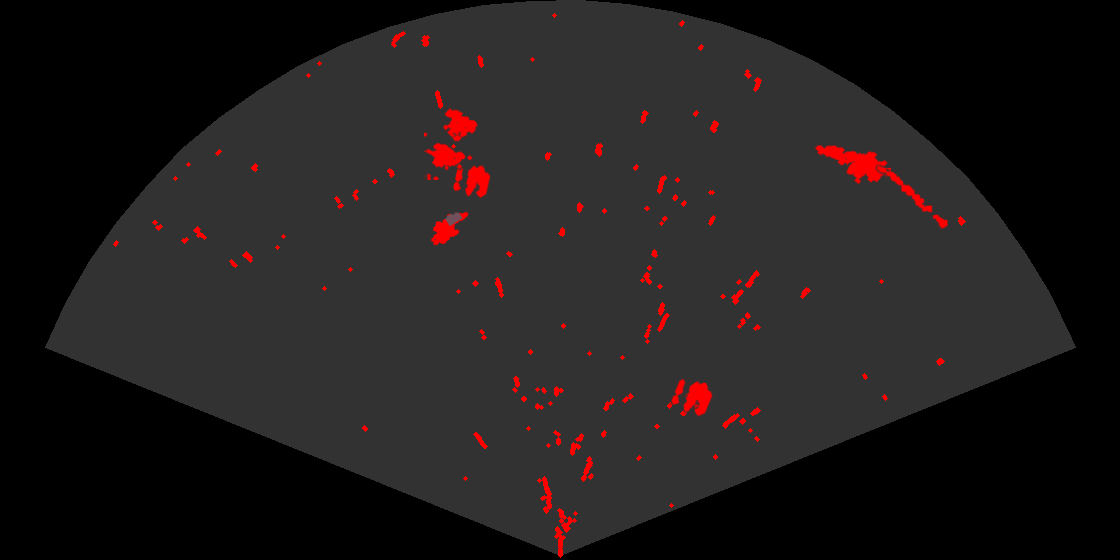AUV: (429, 210, 470, 247)
ball: (669, 377, 714, 418), (451, 163, 492, 200)
cage: (424, 106, 479, 180)
chain: (875, 164, 950, 230)
frogman: (814, 143, 891, 186)
